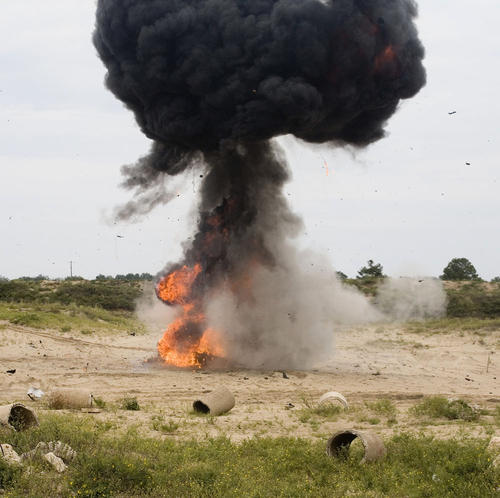fire: (154, 275, 225, 369)
smoke: (103, 4, 425, 245)
